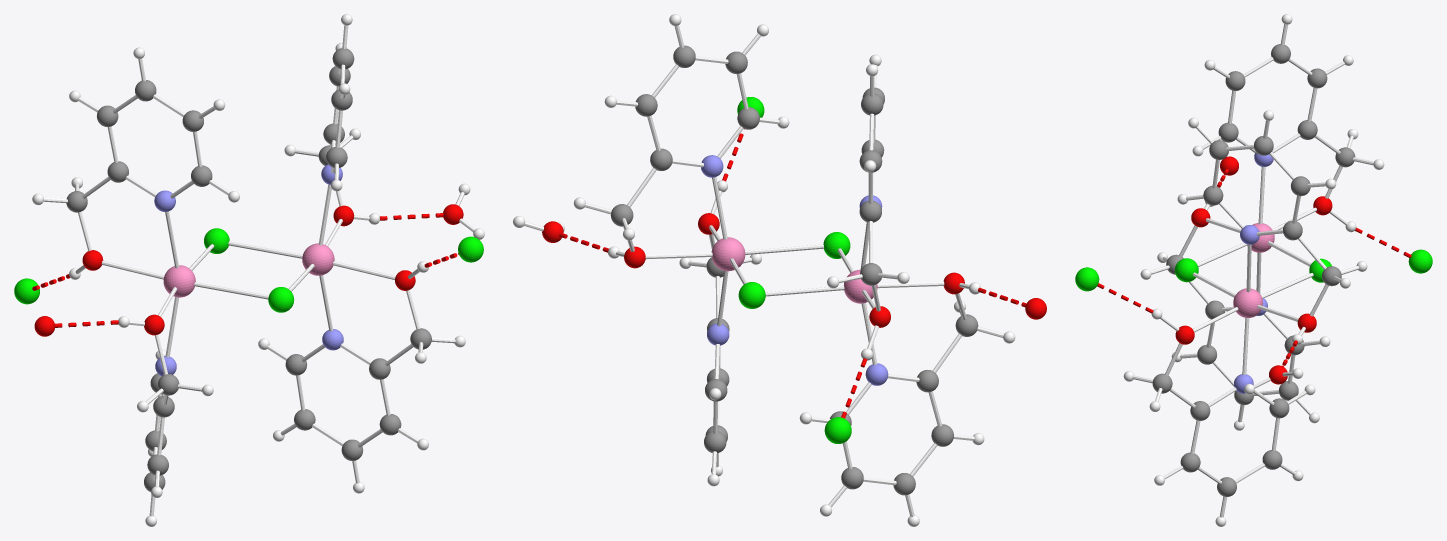
Rendered from Co-Komplex.glb.
3 views of the same model, side by side, from view 1: azimuth 30°, elevation 25°; view 2: azimuth 150°, elevation 25°; view 3: azimuth 270°, elevation 25° (orthographic). The views are drawn at different scales.
Bounding box in the file's own units: 0.1257 × 0.1184 × 0.0894.
